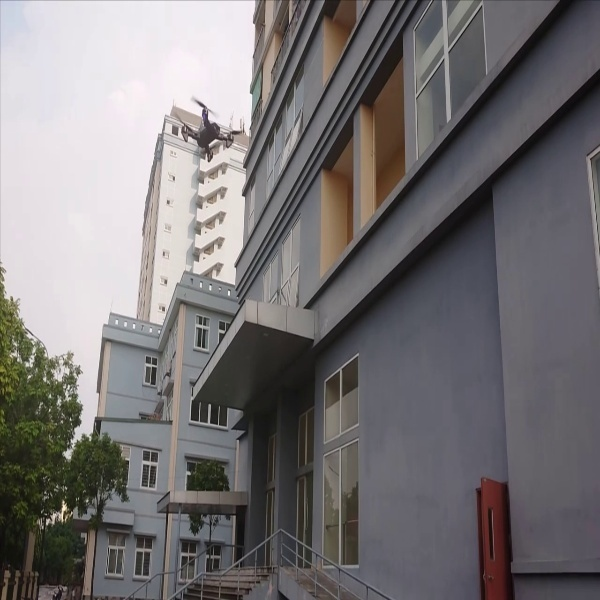drone: (171, 88, 248, 171)
